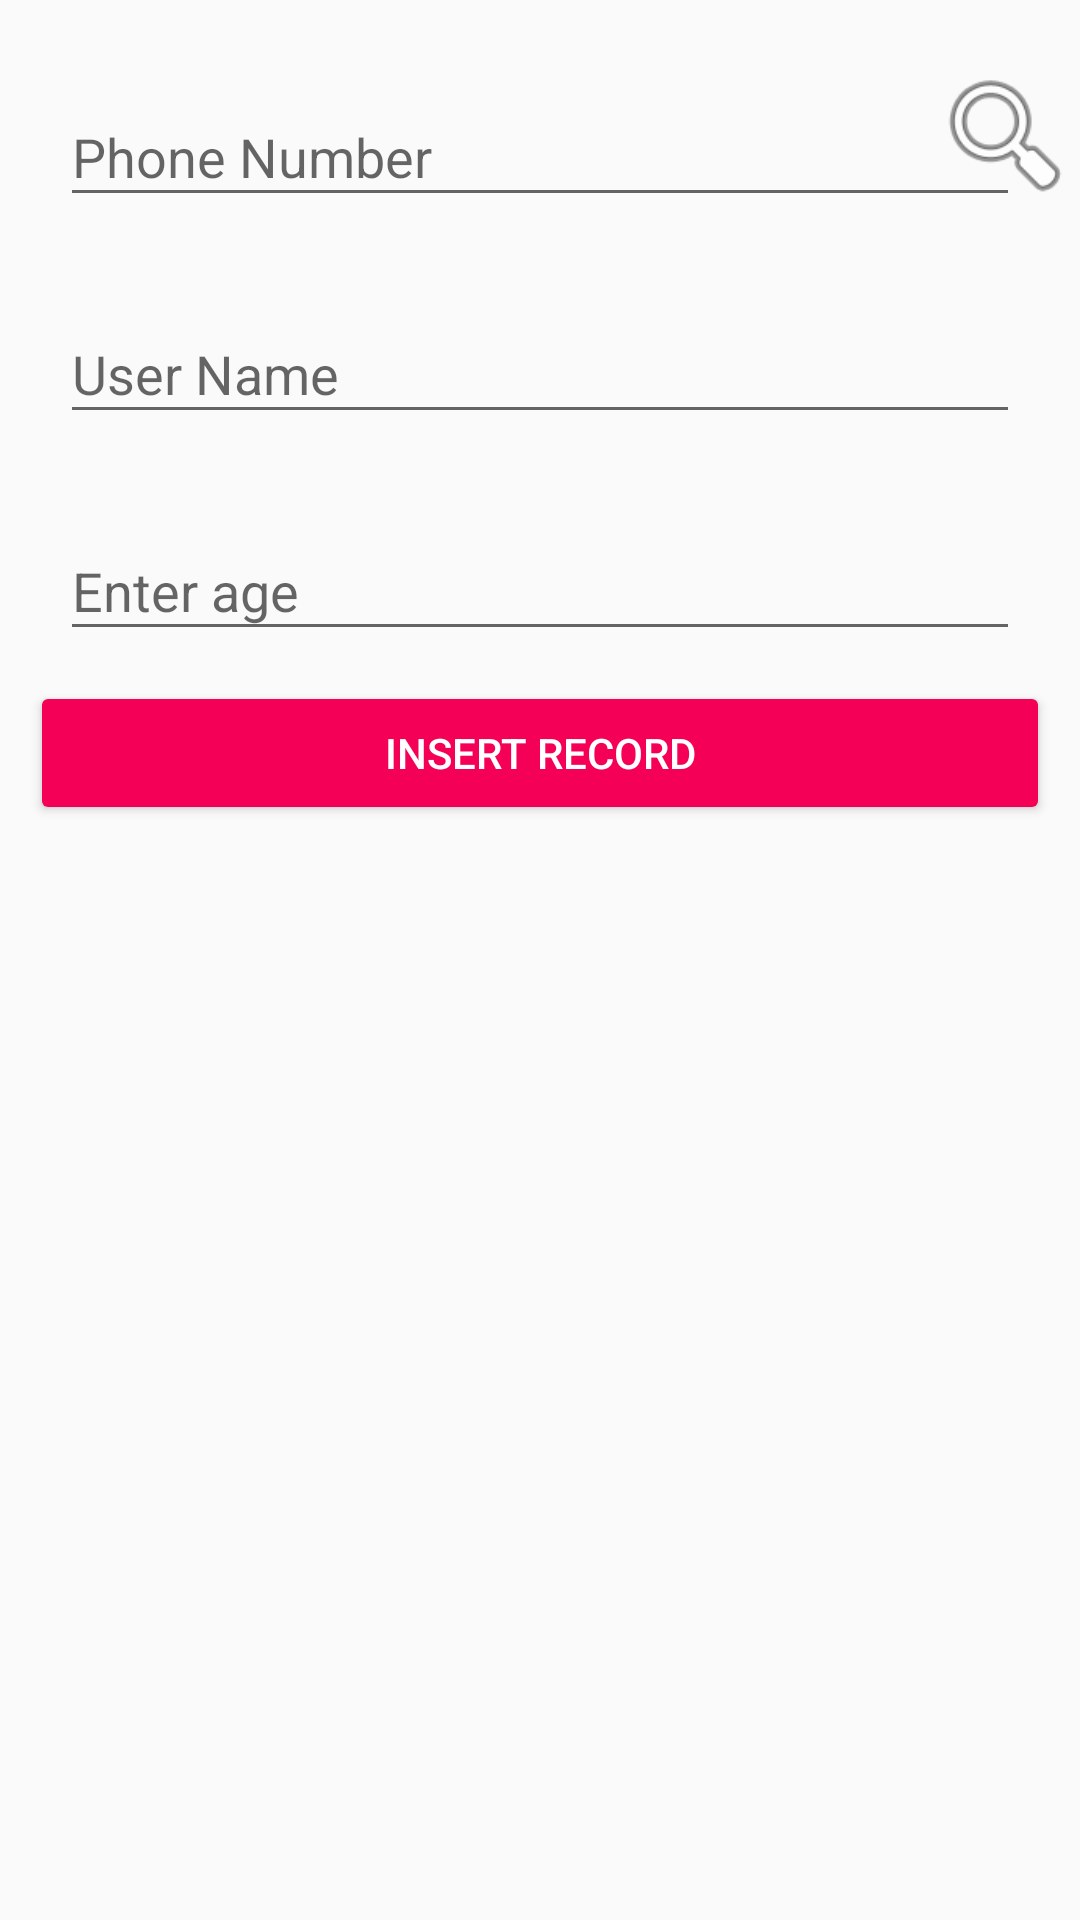

Locate icon controls on the screen. Image size 1080 x 1920, boxes as box(x1, y1, x2, y2).
search: box(949, 80, 1061, 192)
